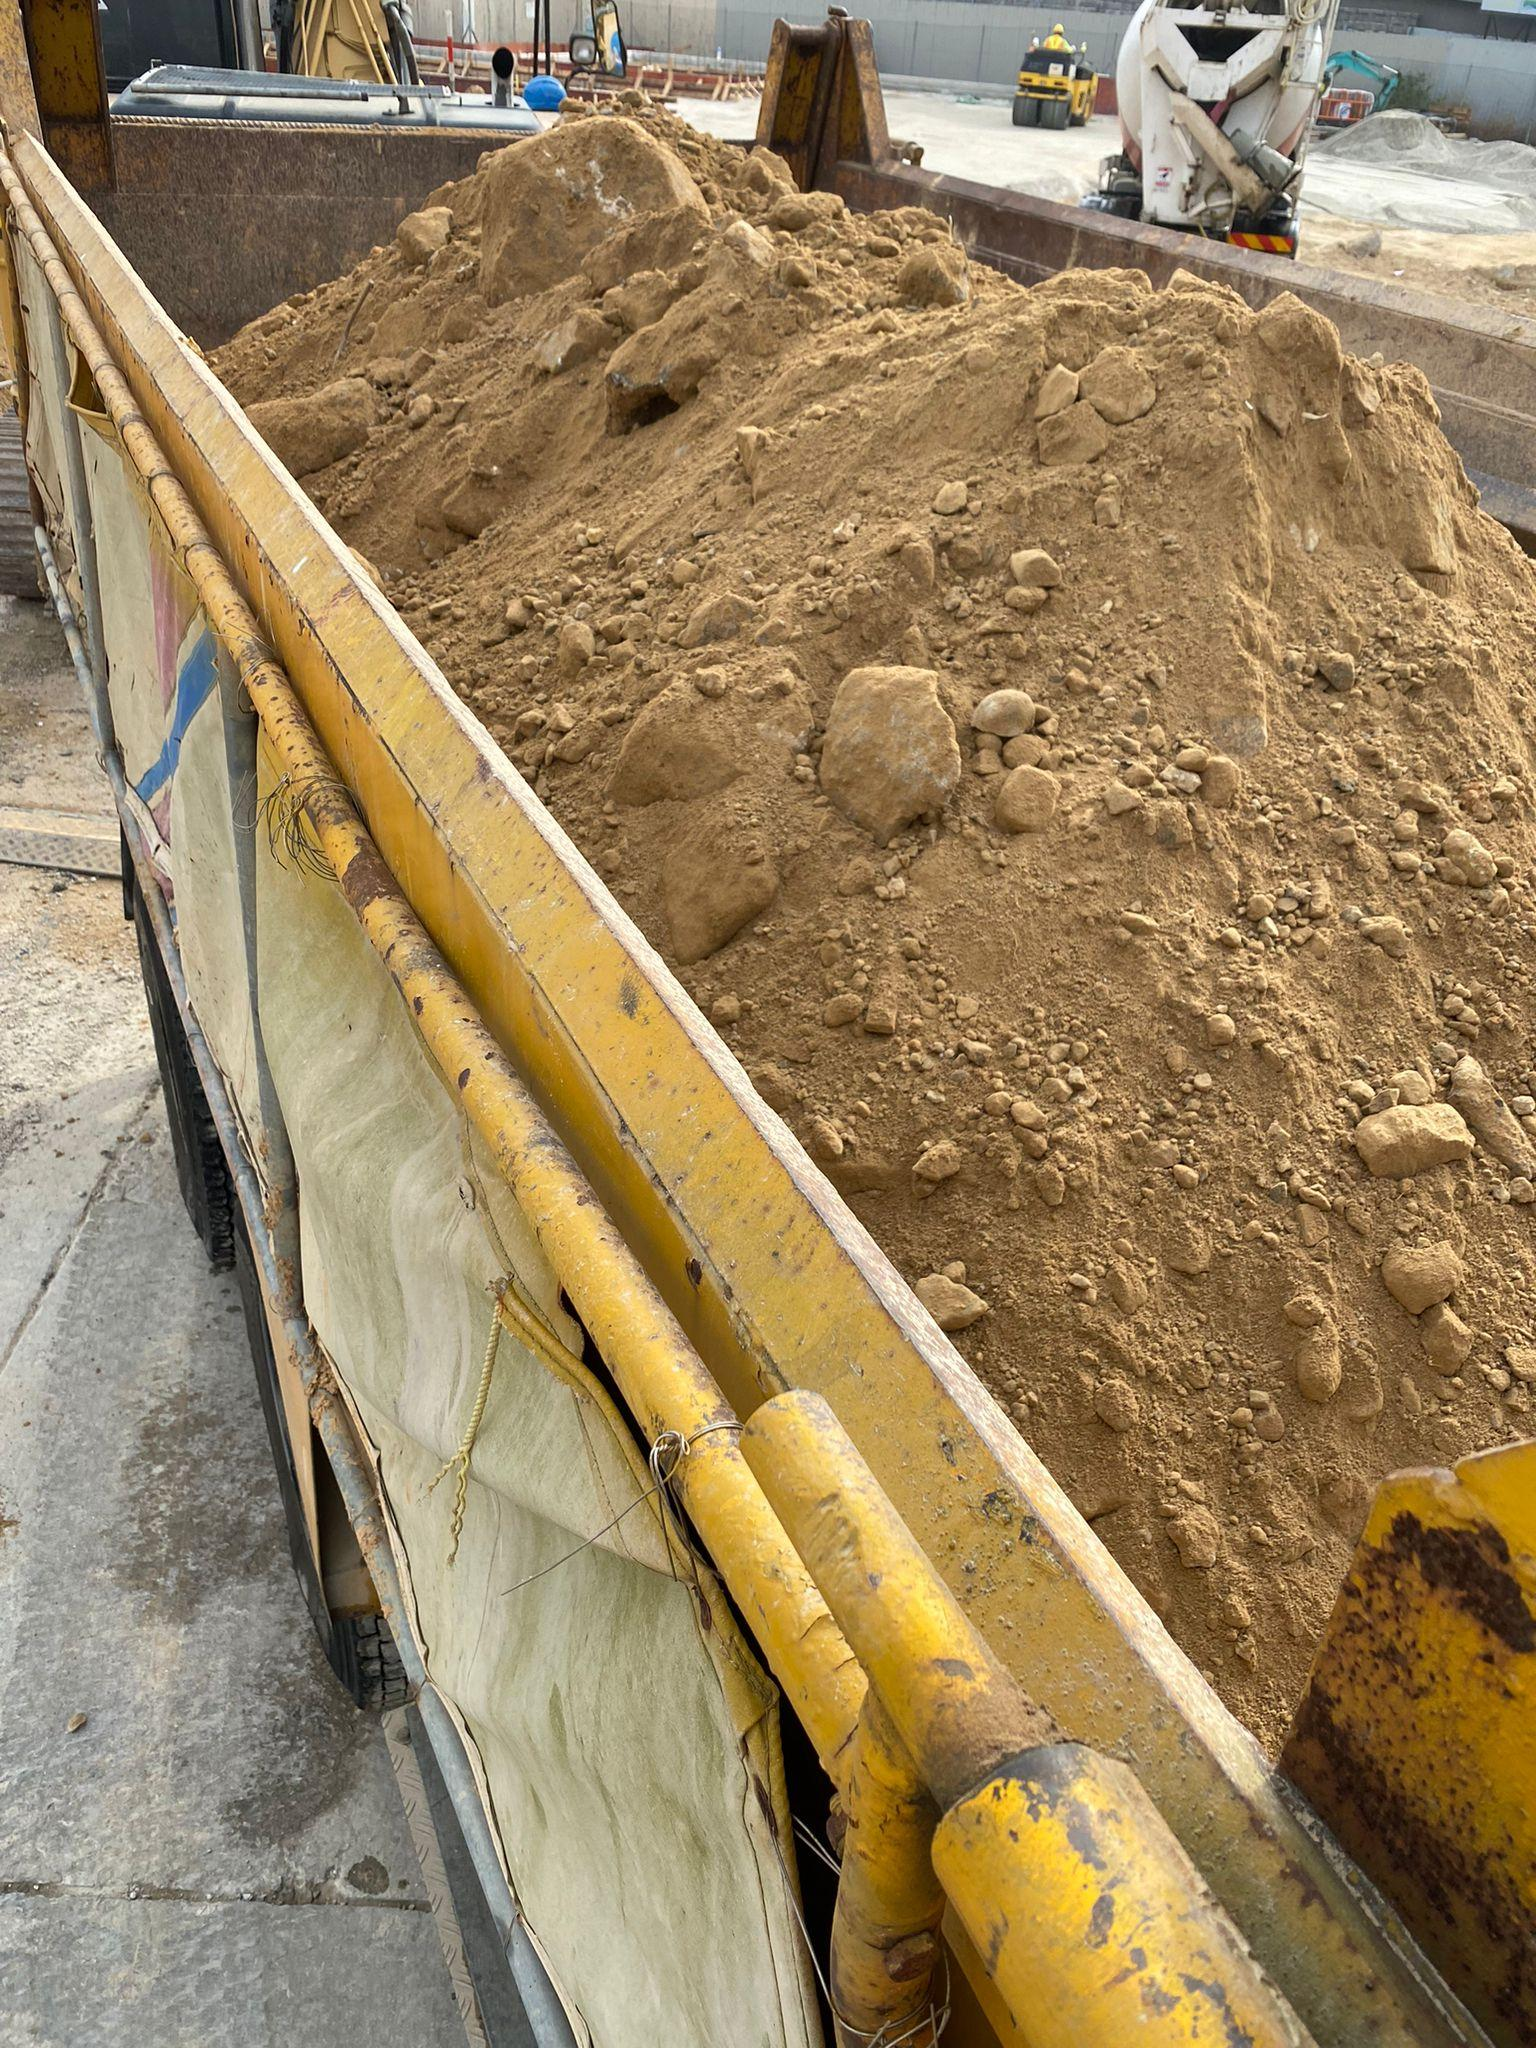dry: (197, 90, 1536, 1737)
